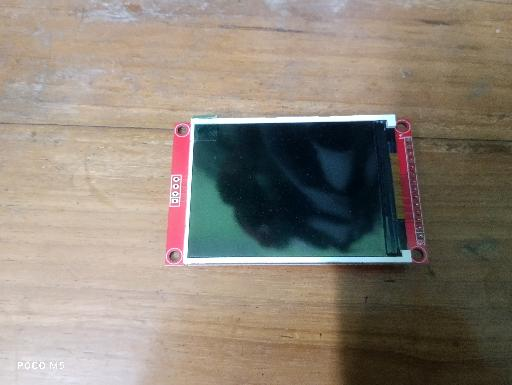Display: (163, 113, 429, 269)
